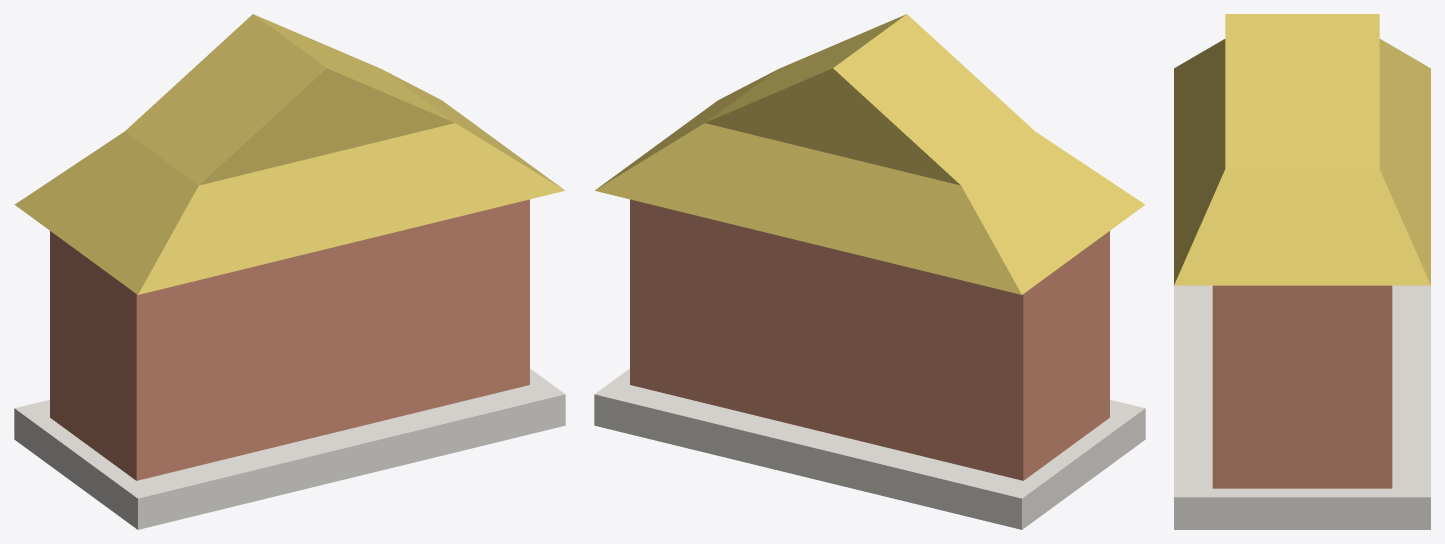
File: 太和门.glb
3 views of the same model, side by side, from view 1: azimuth 30°, elevation 25°; view 2: azimuth 150°, elevation 25°; view 3: azimuth 270°, elevation 25° (orthographic). The views are drawn at different scales.
Parts seen in each view (by area): view 1: body, roof, platform; view 2: body, roof, platform; view 3: roof, body, platform.
Part boxes in pixels (x1=…): body: x1=50, y1=199, x2=529, y2=480; roof: x1=14, y1=14, x2=564, y2=294; platform: x1=14, y1=368, x2=565, y2=529; body: x1=630, y1=199, x2=1109, y2=480; roof: x1=595, y1=14, x2=1145, y2=294; platform: x1=594, y1=368, x2=1145, y2=529; roof: x1=1174, y1=14, x2=1430, y2=285; body: x1=1212, y1=285, x2=1392, y2=488; platform: x1=1174, y1=285, x2=1430, y2=529.
Size of the model in its own units: 4 by 3.5 by 2.
